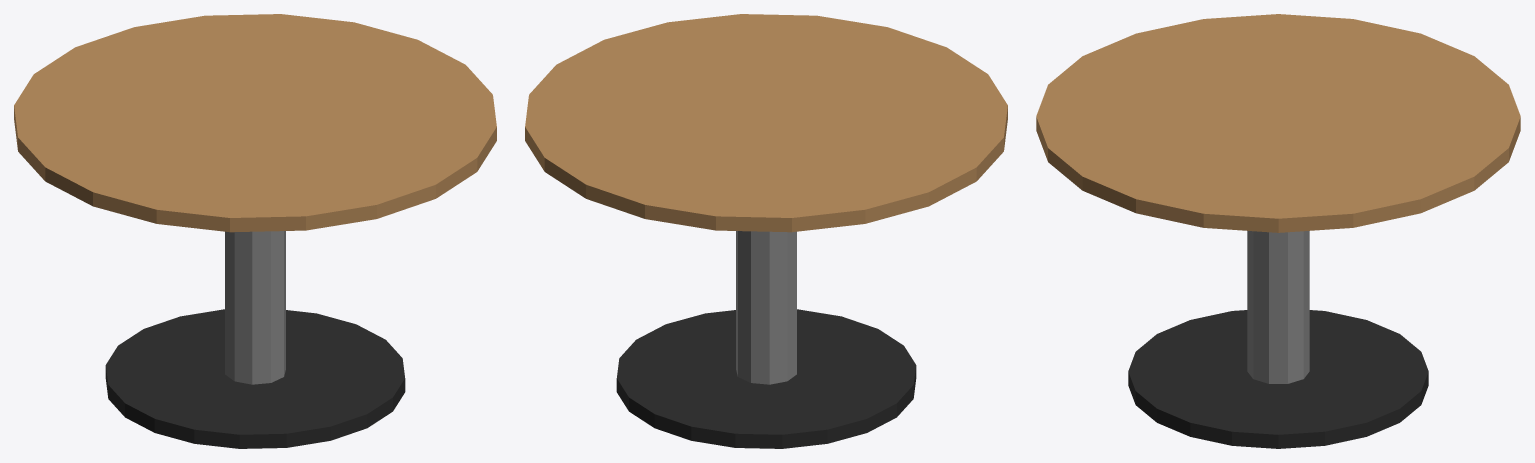
The picture shows the model from 3 angles, left to right: view 1: azimuth 30°, elevation 25°; view 2: azimuth 150°, elevation 25°; view 3: azimuth 270°, elevation 25°; orthographic projection.
Visible parts, largest first — view 1: mesa_break; view 2: mesa_break; view 3: mesa_break.
Part boxes in pixels (<box>): mesa_break: <box>14,14,496,448</box>; mesa_break: <box>525,14,1007,448</box>; mesa_break: <box>1036,14,1520,448</box>.
Size of the model in its own units: 1.24 by 1.24 by 0.76.
